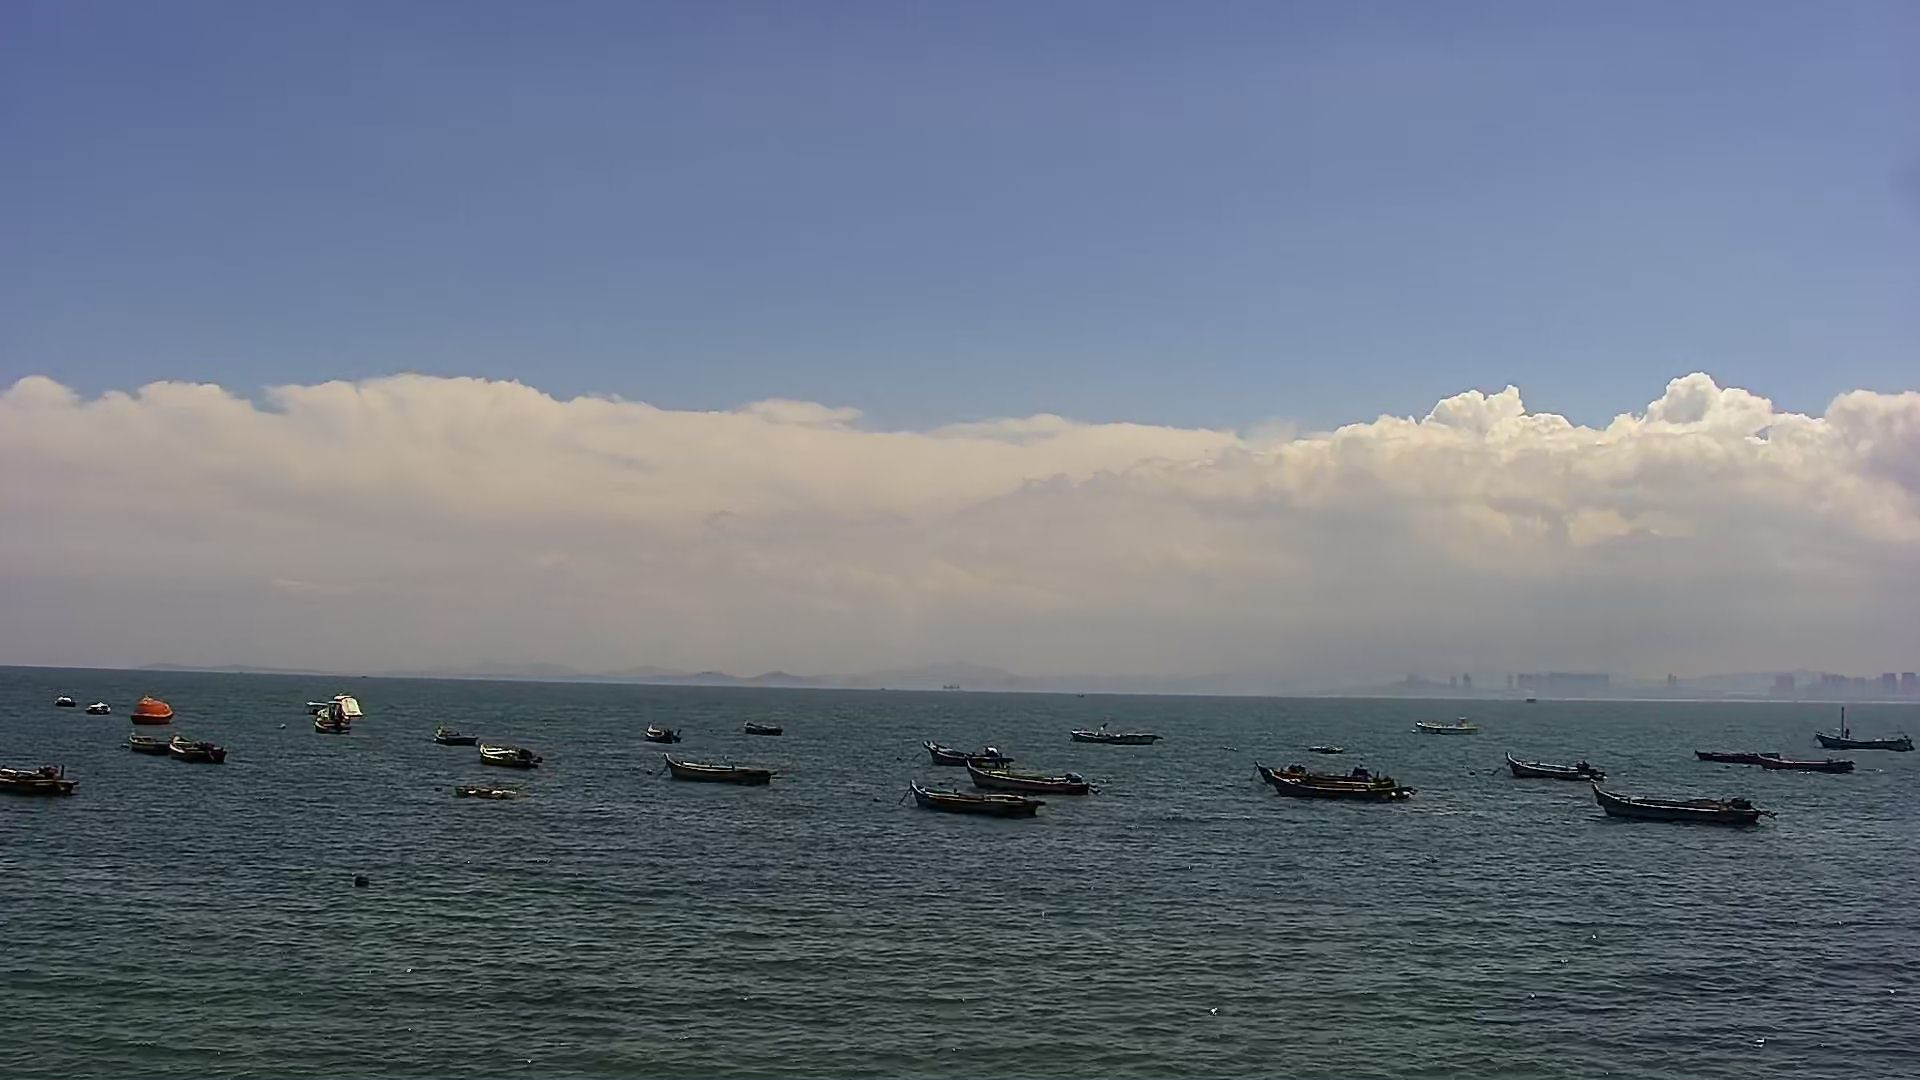ball: (345, 862, 375, 894)
boat: (1585, 771, 1788, 835), (1240, 753, 1424, 815), (902, 781, 1064, 833), (963, 752, 1110, 802), (651, 746, 793, 796), (1491, 738, 1618, 794), (1815, 703, 1920, 760), (909, 728, 1021, 771), (1065, 713, 1168, 760), (1685, 727, 1780, 769), (1763, 744, 1858, 785), (1, 756, 80, 804), (295, 674, 382, 713), (1414, 705, 1495, 744), (469, 735, 554, 771), (165, 731, 236, 771), (305, 699, 367, 737), (124, 690, 186, 727), (1294, 728, 1354, 760), (115, 728, 179, 756), (636, 713, 694, 742), (425, 717, 477, 749), (735, 712, 795, 737), (469, 781, 524, 804), (83, 691, 111, 724), (51, 684, 74, 716)
